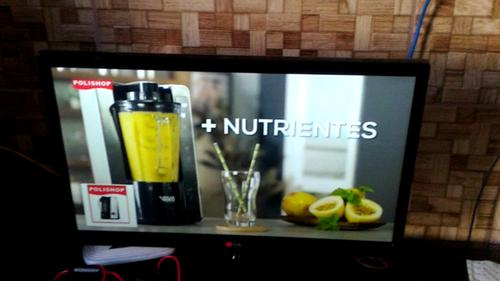Polishop #1: (80, 183, 138, 228)
